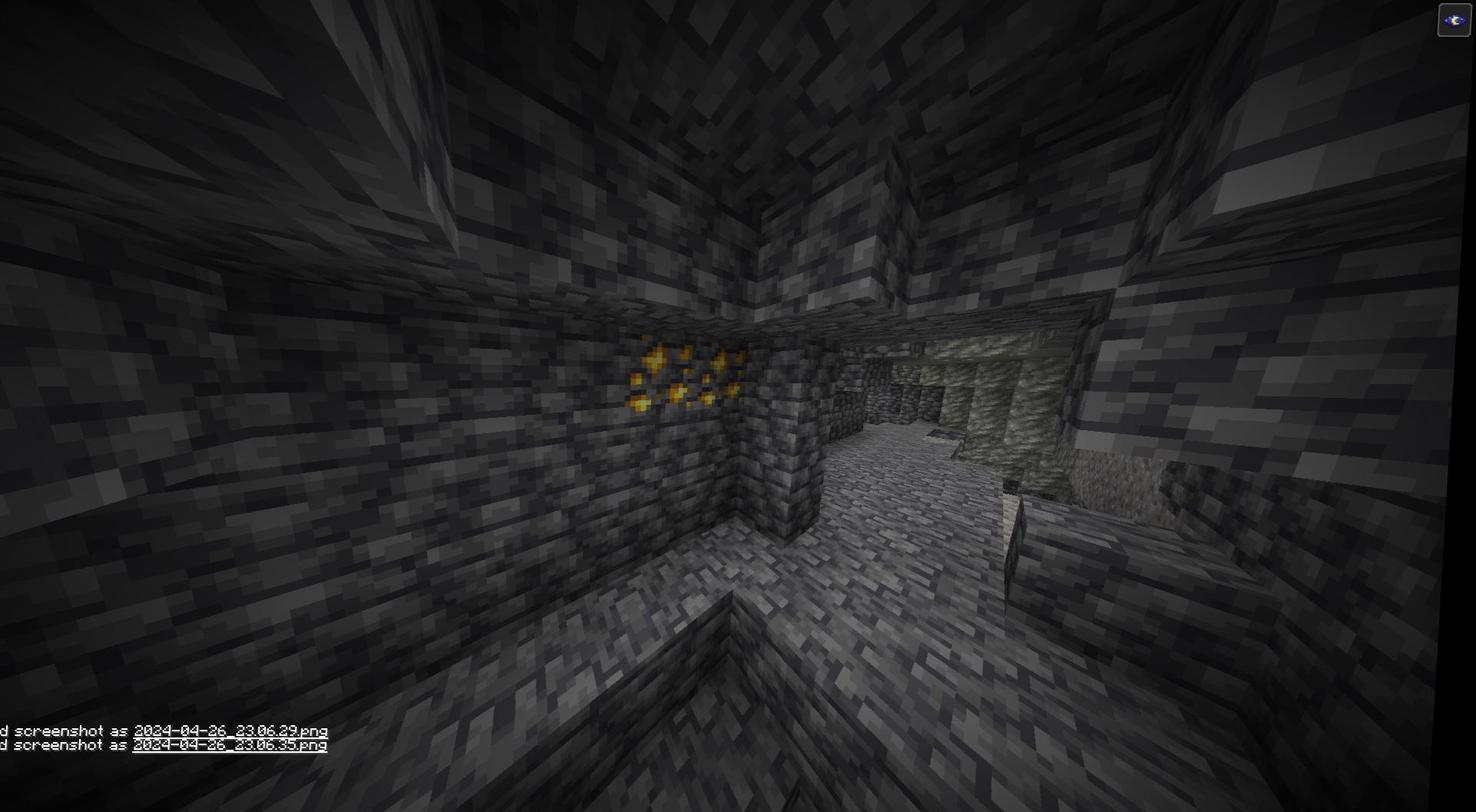gold ore: (621, 328, 703, 413), (703, 340, 751, 407)
